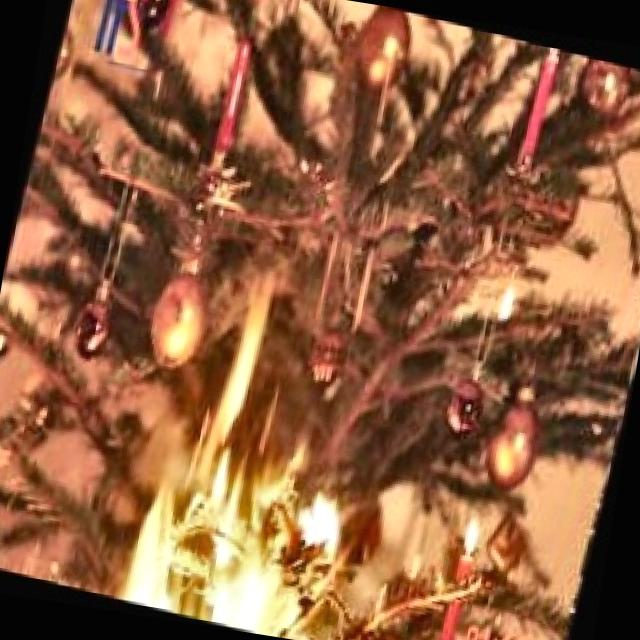fire: (108, 275, 386, 640)
